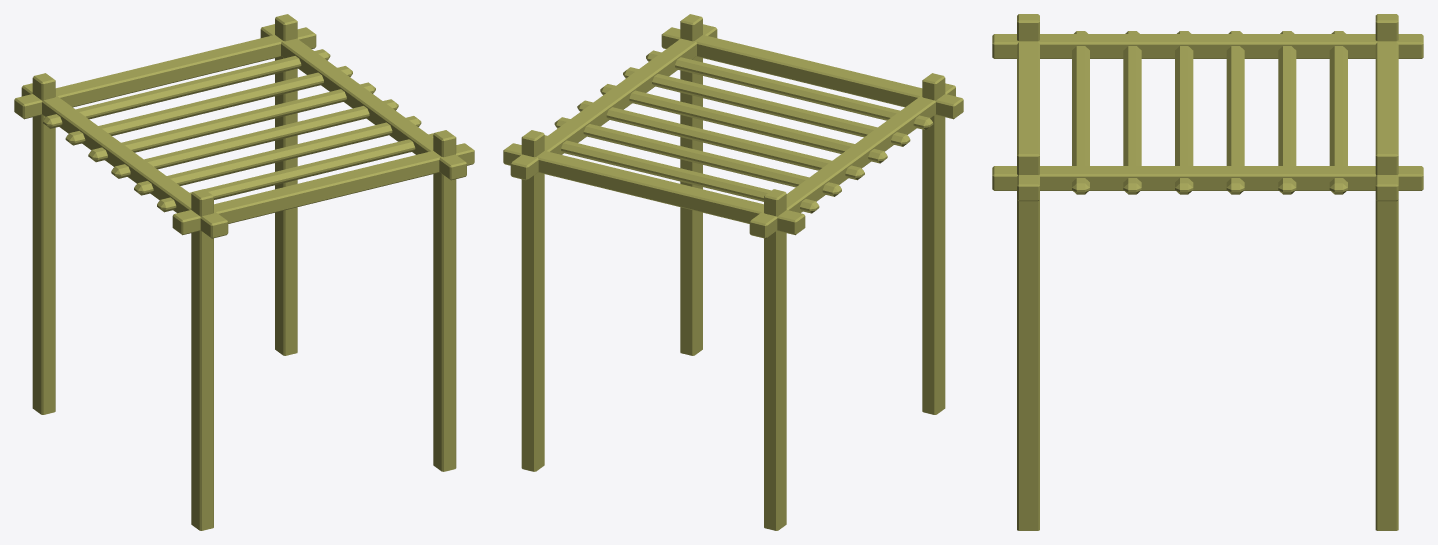
File: P_Tejadito_Varillas.fbx
3 renders of one model, left to right at view 1: azimuth 30°, elevation 25°; view 2: azimuth 150°, elevation 25°; view 3: azimuth 270°, elevation 25°, orthographic. The views are drawn at different scales.
Parts seen in each view (by area): view 1: polySurface20; view 2: polySurface20; view 3: polySurface20.
Boxes of the visible parts, box(x1,y1,x2,y2) form: polySurface20: box(14, 14, 474, 530); polySurface20: box(503, 14, 963, 530); polySurface20: box(992, 14, 1423, 530).
Bounding box in the file's own units: 368 × 398 × 413.
